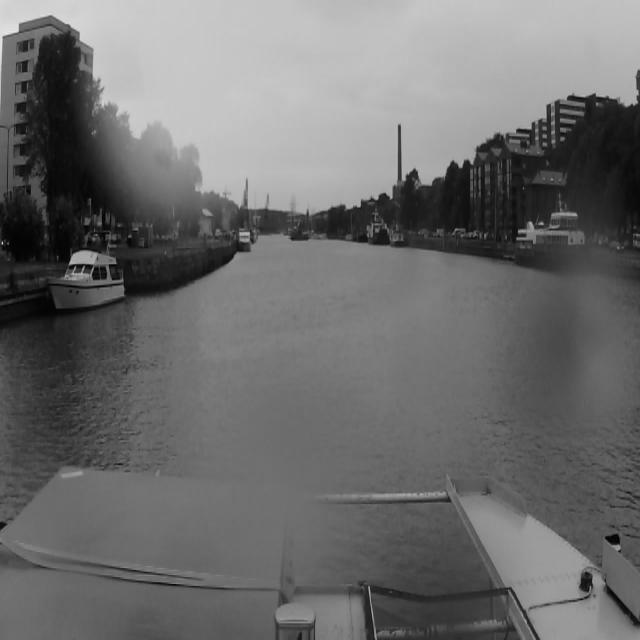ship: (52, 252, 126, 314), (514, 210, 586, 271), (367, 216, 388, 245), (292, 221, 308, 240), (389, 227, 405, 246), (238, 228, 250, 252)
